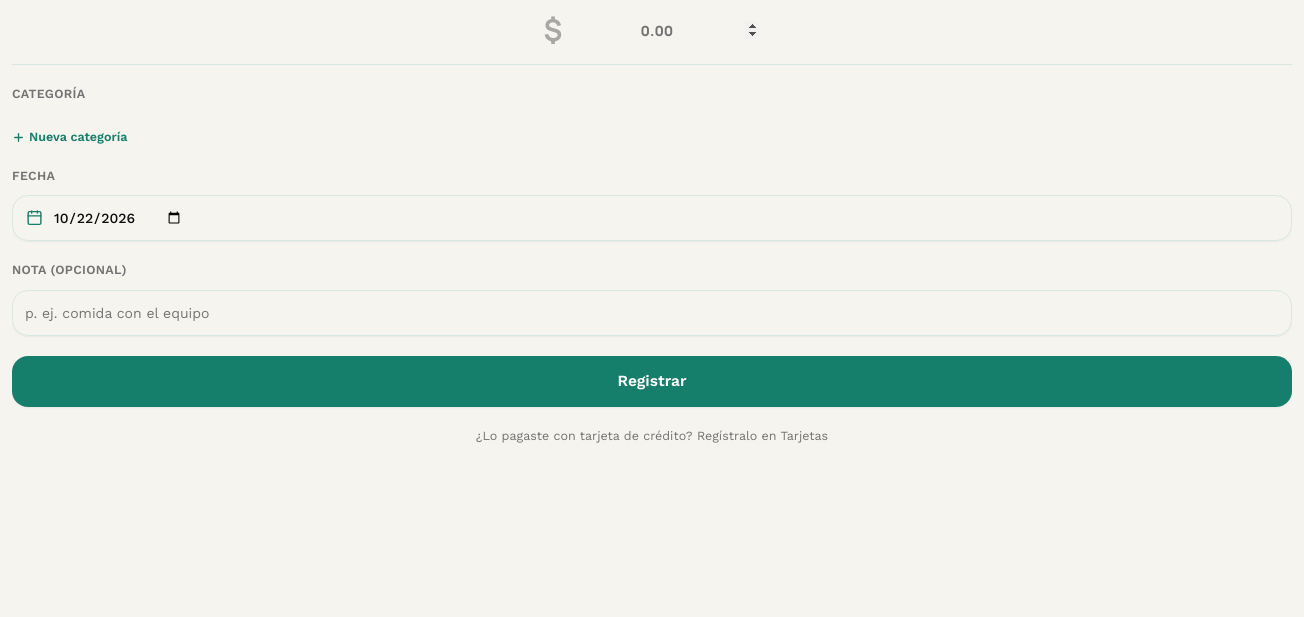
FormularioGasto — pista de la guía sobre los atajos › "Entendido" la quita al instante
In the number field named "¿Cuánto gastaste?": (664, 30) [568, 20, 760, 40], type "55"
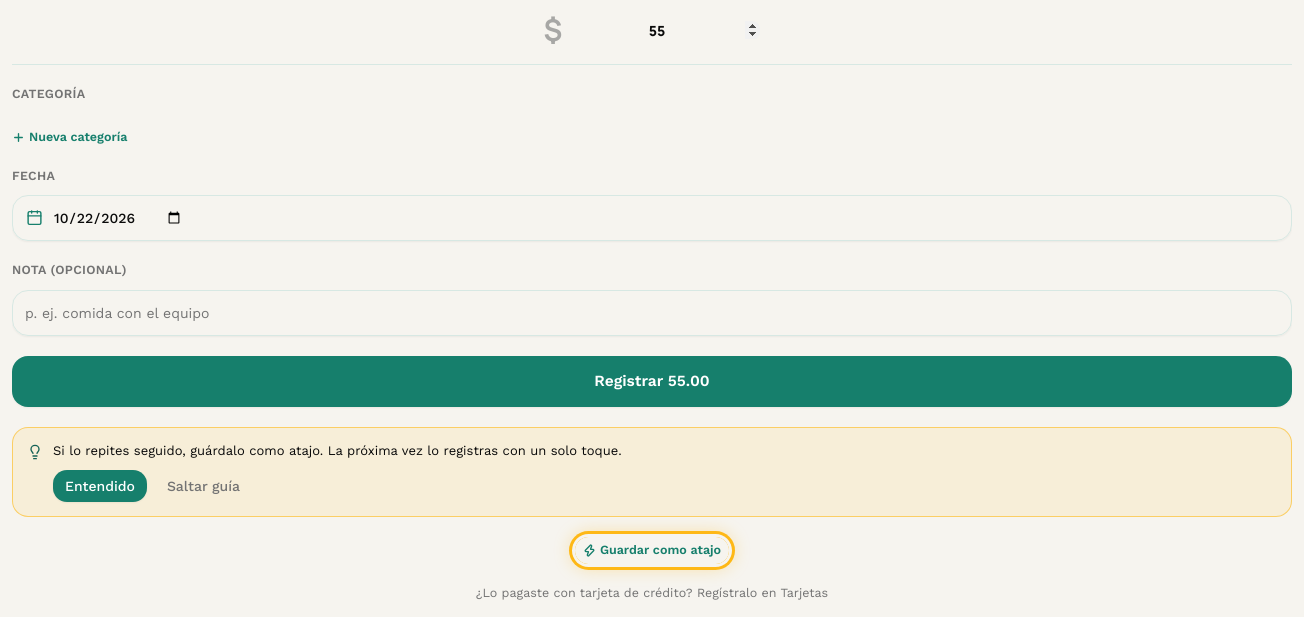
Click the button "Entendido": (100, 486) [53, 470, 147, 502]
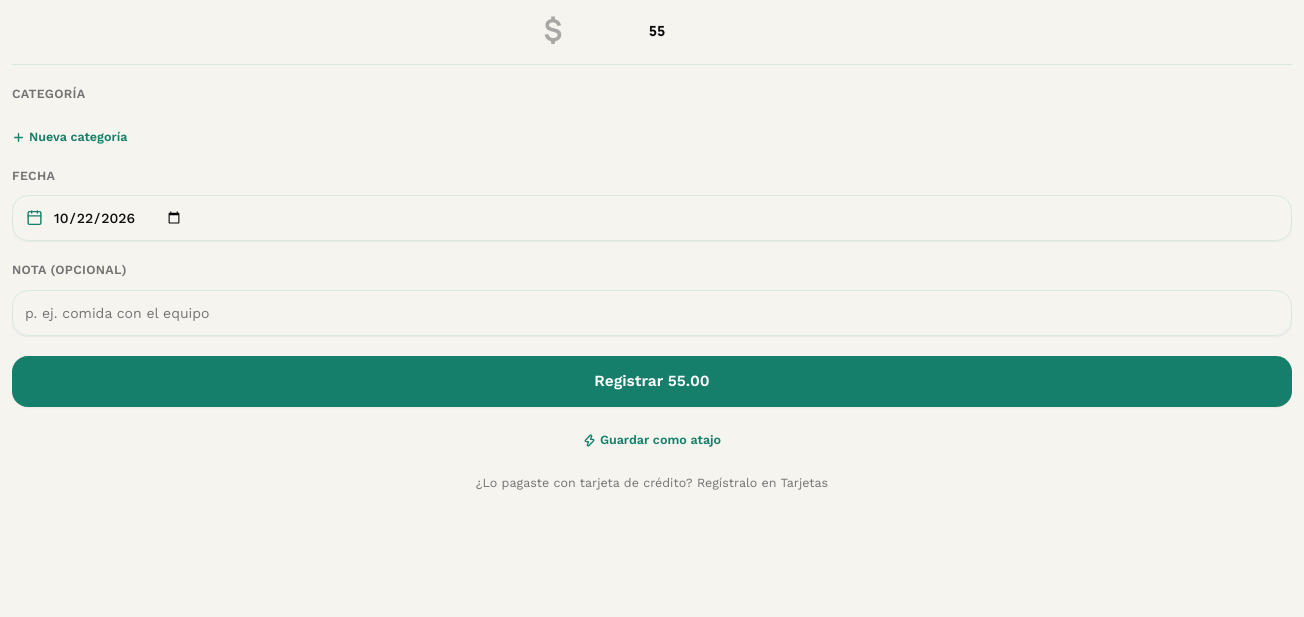
Result: the button "Guardar como atajo" is shown at [583, 431, 721, 450]
Result: the text "Si lo repites seguido, guárdalo como atajo. La próxima vez lo registras con un solo toque." is gone
